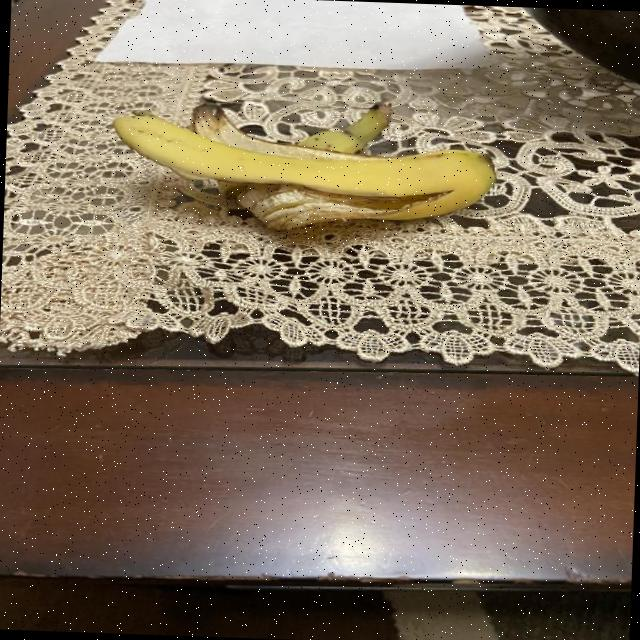banana-peel: (110, 94, 498, 238)
